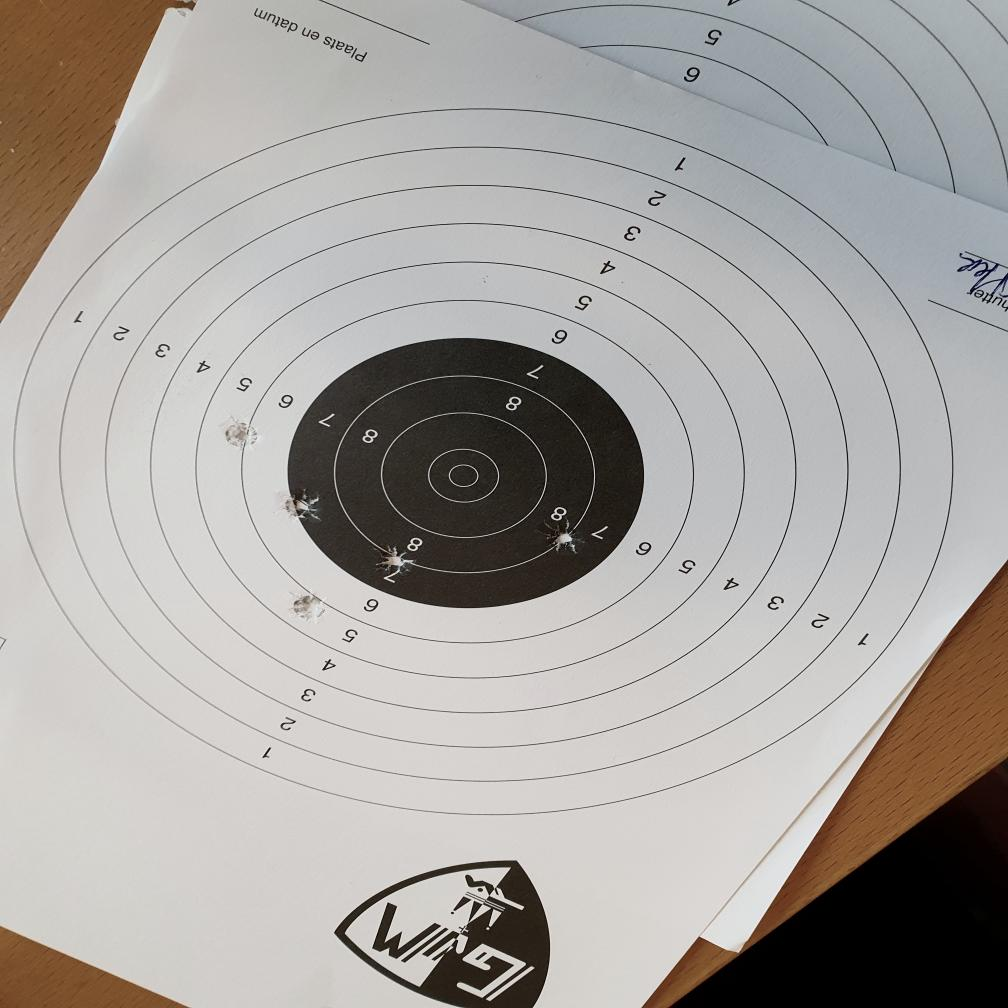6: (284, 591, 333, 622), (219, 420, 259, 453)
7: (278, 488, 324, 523)
8: (373, 544, 416, 580), (537, 526, 587, 555)
Target: (10, 110, 955, 818)
black_contour: (286, 337, 644, 611)
